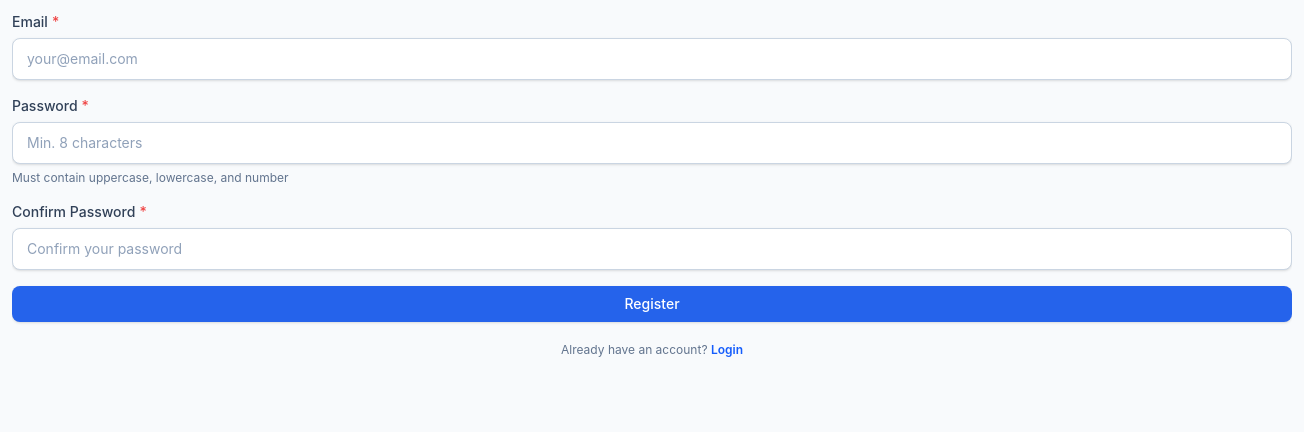
Test case: RegisterForm › shows error when password lacks complexity
Type "a@b.com" into the field labelled "Email*" at (652, 59), box [12,38,1292,80]
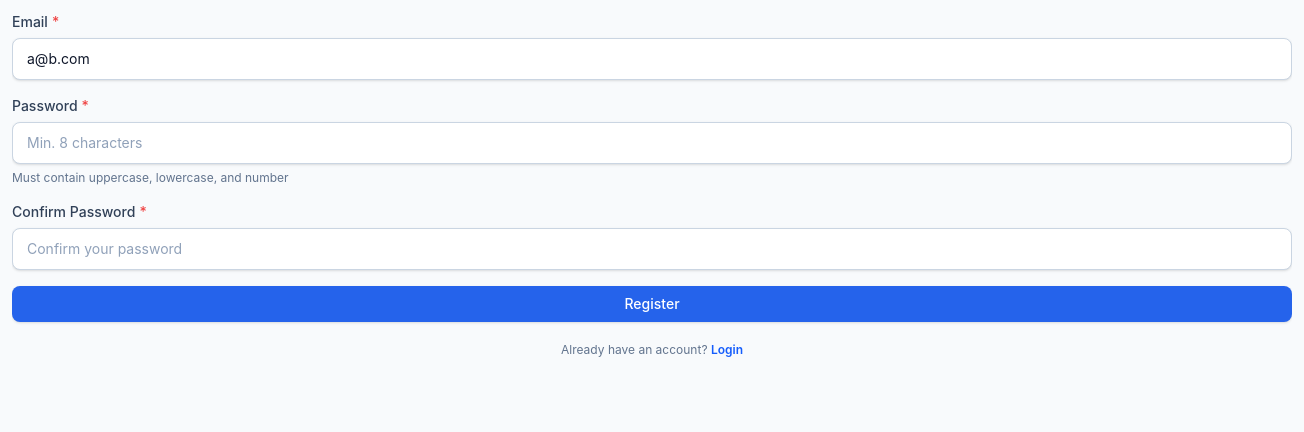
Type "password123" into the password field labelled "Password*" at (652, 143), box [12,122,1292,164]
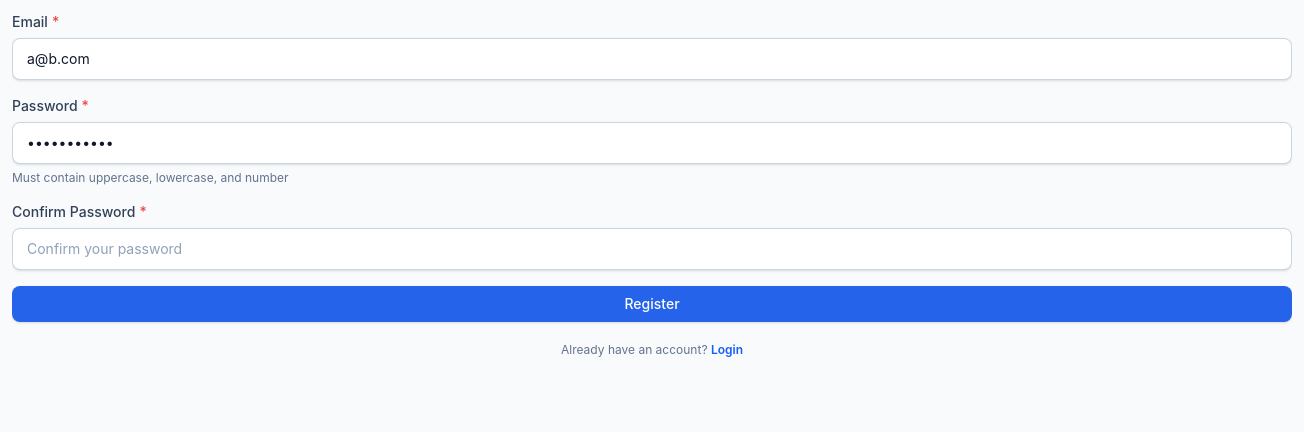
Type "password123" into the password field labelled "Confirm Password*" at (652, 249), box [12,228,1292,270]
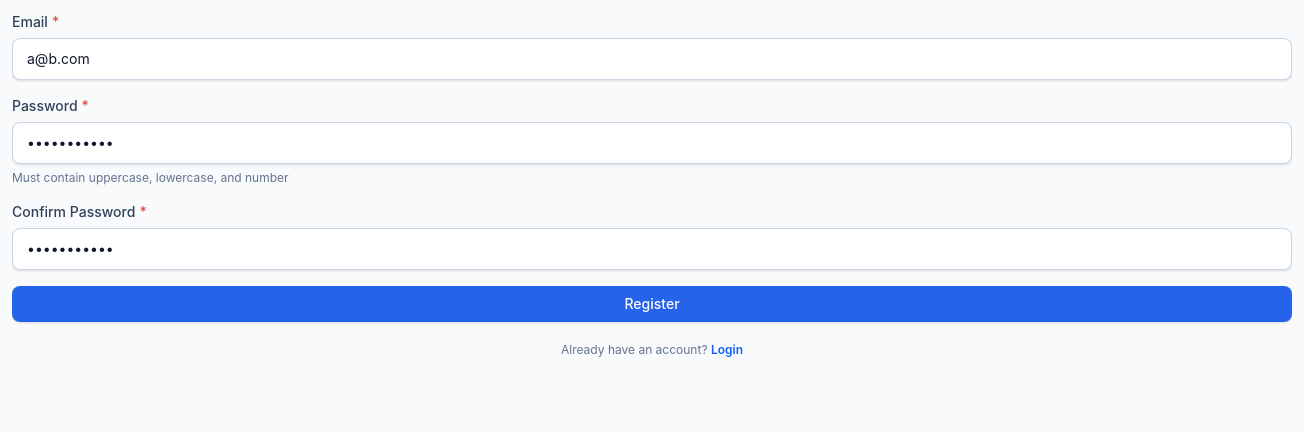
Click the button "Register" at (652, 304), box [12,286,1292,322]
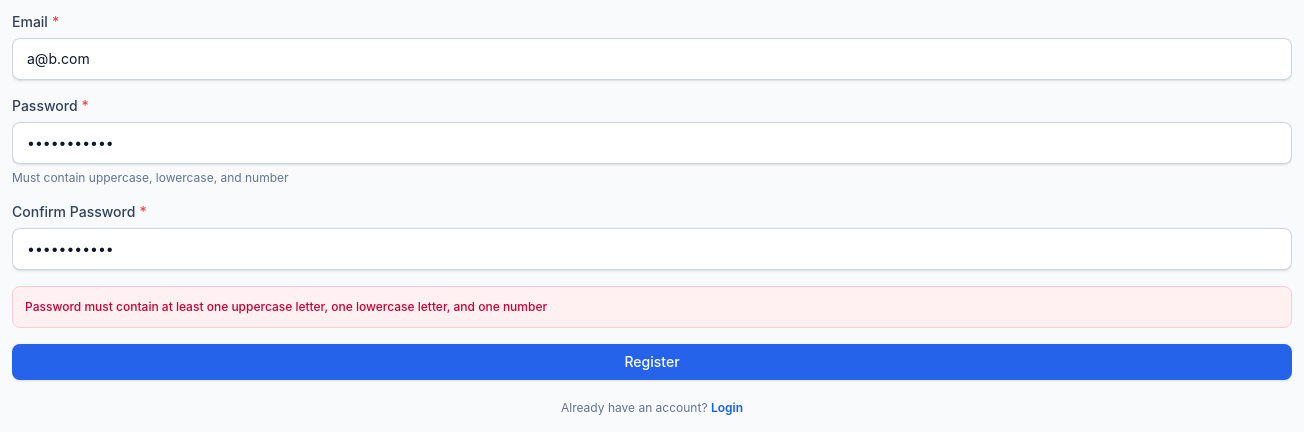
Check: the text "uppercase letter, one lowercase letter, and one number" is shown, box [25,299,547,314]
